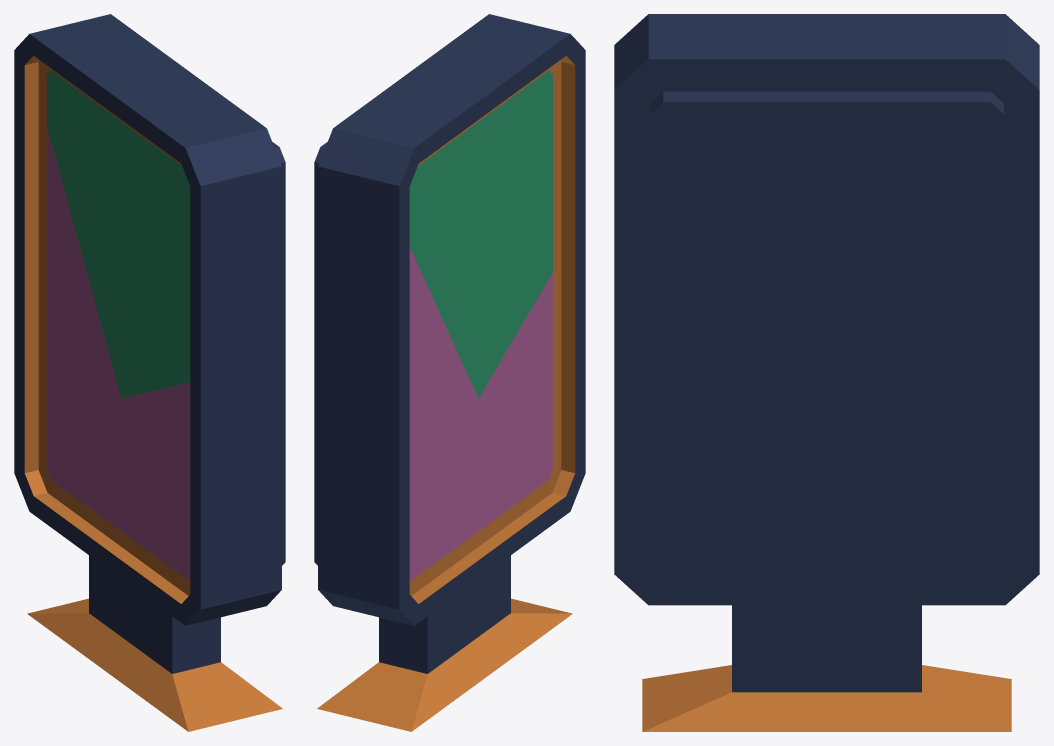
File: AdDisplay03.fbx
3 views of the same model, side by side, from view 1: azimuth 30°, elevation 25°; view 2: azimuth 150°, elevation 25°; view 3: azimuth 270°, elevation 25° (orthographic). The views are drawn at different scales.
Visible parts, largest first — view 1: AdDisplay03; view 2: AdDisplay03; view 3: AdDisplay03.
Part boxes in pixels (box(x1,y1,x2,y2)): AdDisplay03: box(14, 14, 285, 731); AdDisplay03: box(314, 14, 585, 731); AdDisplay03: box(614, 14, 1039, 731).
Bounding box in the file's own units: 51.29 × 284 × 164.
